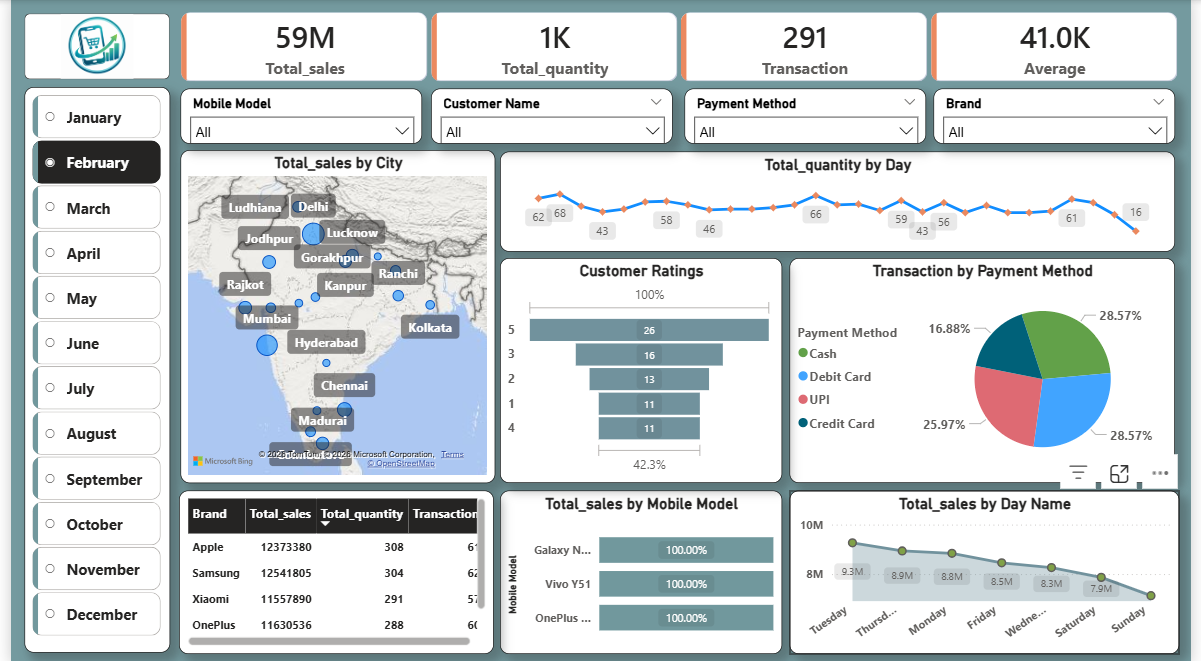

This screenshot's page, from the dashboard's own definition file:
{"tool":"powerbi","page":{"name":"Page 1","canvas":[1280,720],"ordinal":0},"visuals":[{"type":"advancedSlicerVisual","fields":{"Values":["phone_sales_data.Date.Variation.Date Hierarchy.Month"]},"box":[14.6,94.3,157.8,613.2],"z":1000},{"type":"cardVisual","fields":{"Data":["phone_sales_data.Total_sales","phone_sales_data.Total_quantity","phone_sales_data.Transaction","phone_sales_data.Average"]},"box":[172,0,1104.4,100],"z":2000},{"type":"map","fields":{"Category":["phone_sales_data.City"],"Size":["phone_sales_data.Total_sales"]},"box":[184,162,341.6,361.1],"z":3000},{"type":"lineChart","fields":{"Y":["phone_sales_data.Total_quantity"],"Category":["phone_sales_data.Date.Variation.Date Hierarchy.Month","phone_sales_data.Date.Variation.Date Hierarchy.Day"]},"box":[530.3,164.3,731.9,109],"z":4000},{"type":"hundredPercentStackedBarChart","fields":{"Category":["phone_sales_data.Mobile Model"],"Y":["phone_sales_data.Total_sales"]},"box":[530.3,531.9,305.8,177.3],"z":5000},{"type":"pieChart","fields":{"Y":["phone_sales_data.Transaction"],"Category":["phone_sales_data.Payment Method"]},"box":[844,279.8,418,244],"z":6000},{"type":"funnel","title":"Customer Ratings","fields":{"Category":["phone_sales_data.Customer Ratings"],"Y":["CountNonNull(phone_sales_data.Customer Ratings)"]},"box":[530.3,279.8,305.8,244],"z":7000},{"type":"stackedAreaChart","fields":{"Category":["phone_sales_data.Day Name"],"Y":["phone_sales_data.Total_sales"]},"box":[844.2,531.9,422.9,177.3],"z":8000},{"type":"tableEx","fields":{"Values":["phone_sales_data.Brand","phone_sales_data.Total_sales","phone_sales_data.Total_quantity","phone_sales_data.Transaction"]},"box":[182.2,531.9,341.6,177.3],"z":9000},{"type":"slicer","fields":{"Values":["phone_sales_data.Mobile Model"]},"box":[183.8,96,261.9,60.2],"z":10000},{"type":"slicer","fields":{"Values":["phone_sales_data.Customer Name"]},"box":[456,96,261.9,60.2],"z":11000},{"type":"slicer","fields":{"Values":["phone_sales_data.Payment Method"]},"box":[730,96,261.9,60.2],"z":12000},{"type":"slicer","fields":{"Values":["phone_sales_data.Brand"]},"box":[1000.3,96,261.9,60.2],"z":13000},{"type":"image","box":[14.6,14.6,157,71],"z":13002}]}

Visuals, with their boxes in screenshot pixels (x1, y1, x2, y2), scaled from the page's 1280x720 canvas onto the 1201x661 screenshot:
advancedSlicerVisual - phone_sales_data.Date.Variation.Date Hierarchy.Month: 14, 87, 162, 650
cardVisual - phone_sales_data.Total_sales x phone_sales_data.Total_quantity: 161, 0, 1198, 92
map - phone_sales_data.City x phone_sales_data.Total_sales: 173, 149, 493, 480
lineChart - phone_sales_data.Total_quantity x phone_sales_data.Date.Variation.Date Hierarchy.Month: 498, 151, 1184, 251
hundredPercentStackedBarChart - phone_sales_data.Mobile Model x phone_sales_data.Total_sales: 498, 488, 784, 651
pieChart - phone_sales_data.Transaction x phone_sales_data.Payment Method: 792, 257, 1184, 481
"Customer Ratings" funnel: 498, 257, 784, 481
stackedAreaChart - phone_sales_data.Day Name x phone_sales_data.Total_sales: 792, 488, 1189, 651
tableEx - phone_sales_data.Brand x phone_sales_data.Total_sales: 171, 488, 491, 651
slicer - phone_sales_data.Mobile Model: 172, 88, 418, 143
slicer - phone_sales_data.Customer Name: 428, 88, 674, 143
slicer - phone_sales_data.Payment Method: 685, 88, 931, 143
slicer - phone_sales_data.Brand: 939, 88, 1184, 143
image: 14, 13, 161, 79
